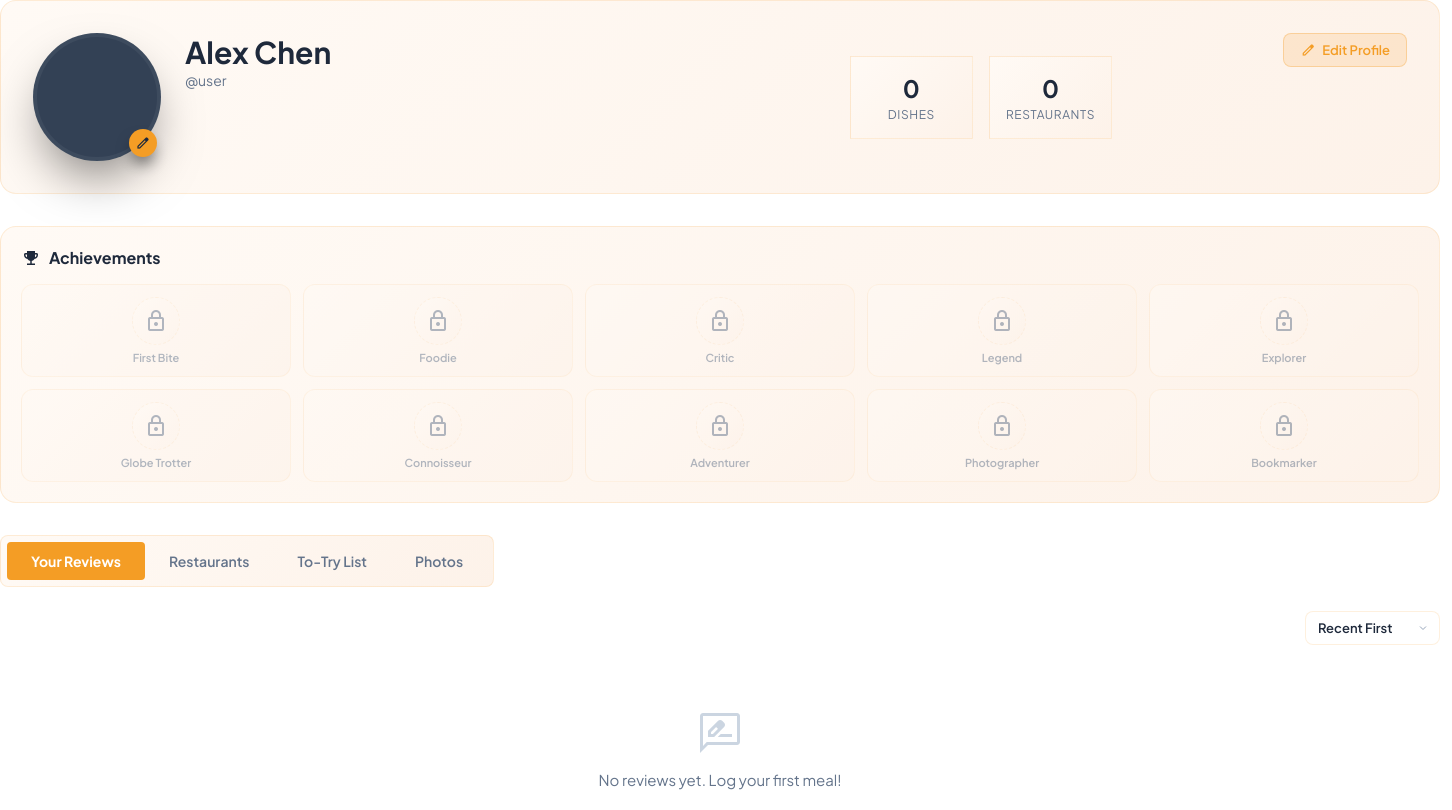
Test: Profile — Photos Tab › shows empty state when no photos
Click the button "Photos" at [439, 561], box x1=391 y1=542 x2=487 y2=580
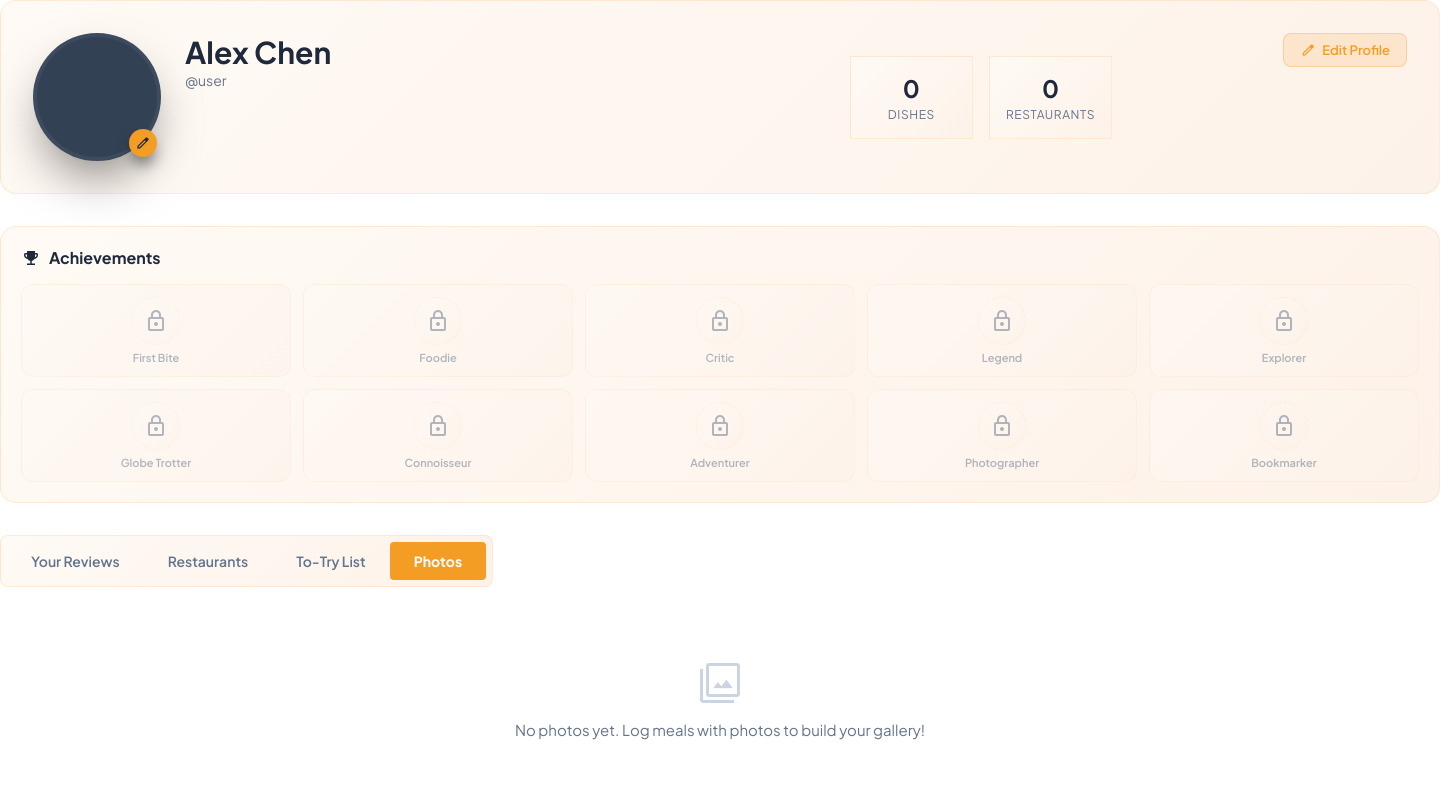
Now the text "No photos yet. Log meals with photos to build your gallery!" is shown, box x1=515 y1=719 x2=925 y2=742
